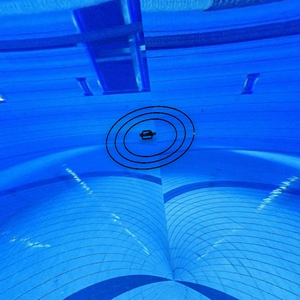circle: (101, 104, 201, 173)
submarine: (139, 129, 162, 144)
